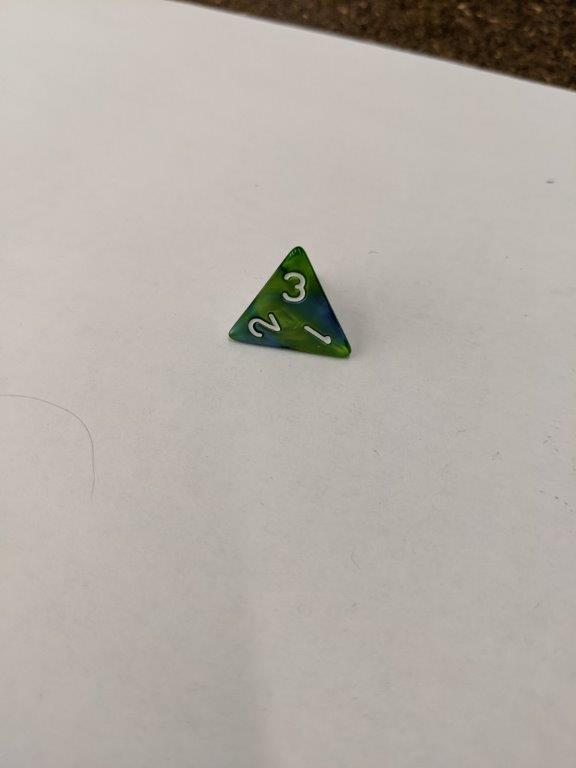d4-3: (225, 245, 357, 364)
